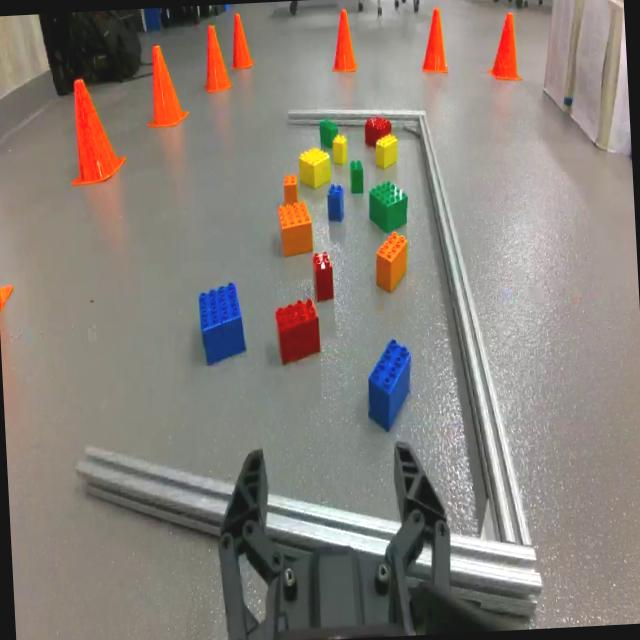block: (299, 144, 335, 190), (374, 132, 398, 167), (332, 133, 348, 165)
blue: (364, 338, 416, 431), (199, 284, 246, 362), (324, 182, 348, 224)
cone: (64, 76, 126, 191), (142, 38, 188, 134), (414, 2, 454, 84), (484, 6, 526, 81), (326, 3, 364, 76), (199, 17, 233, 98), (226, 8, 257, 76)
green: (369, 178, 411, 235), (320, 121, 339, 153), (348, 160, 364, 192)
metal barrier: (76, 107, 543, 623)
orange: (372, 230, 410, 295), (278, 200, 315, 258), (280, 170, 300, 207)
red goal: (273, 290, 323, 366), (310, 251, 336, 303), (362, 113, 393, 150)
storage cube: (538, 0, 632, 159)
